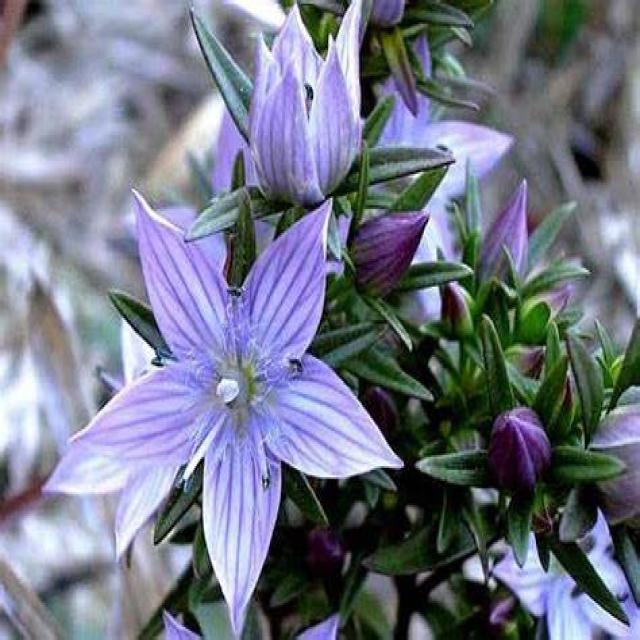Chirata: (179, 19, 640, 599), (90, 208, 537, 616)
